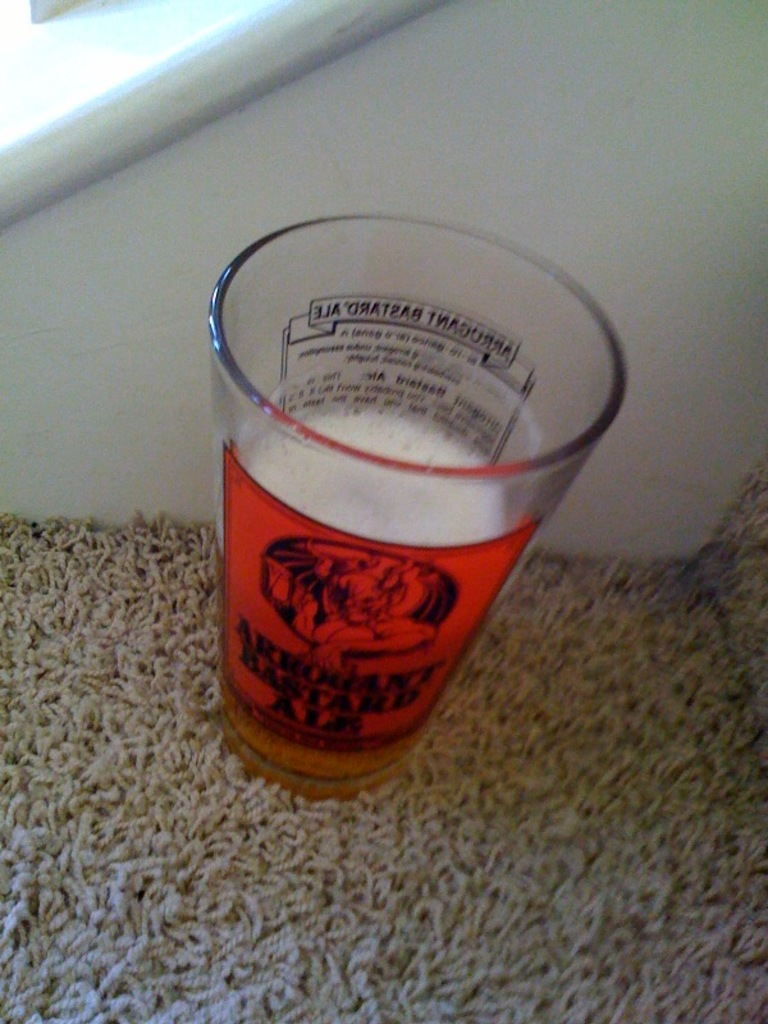Beer: (190, 198, 636, 829)
